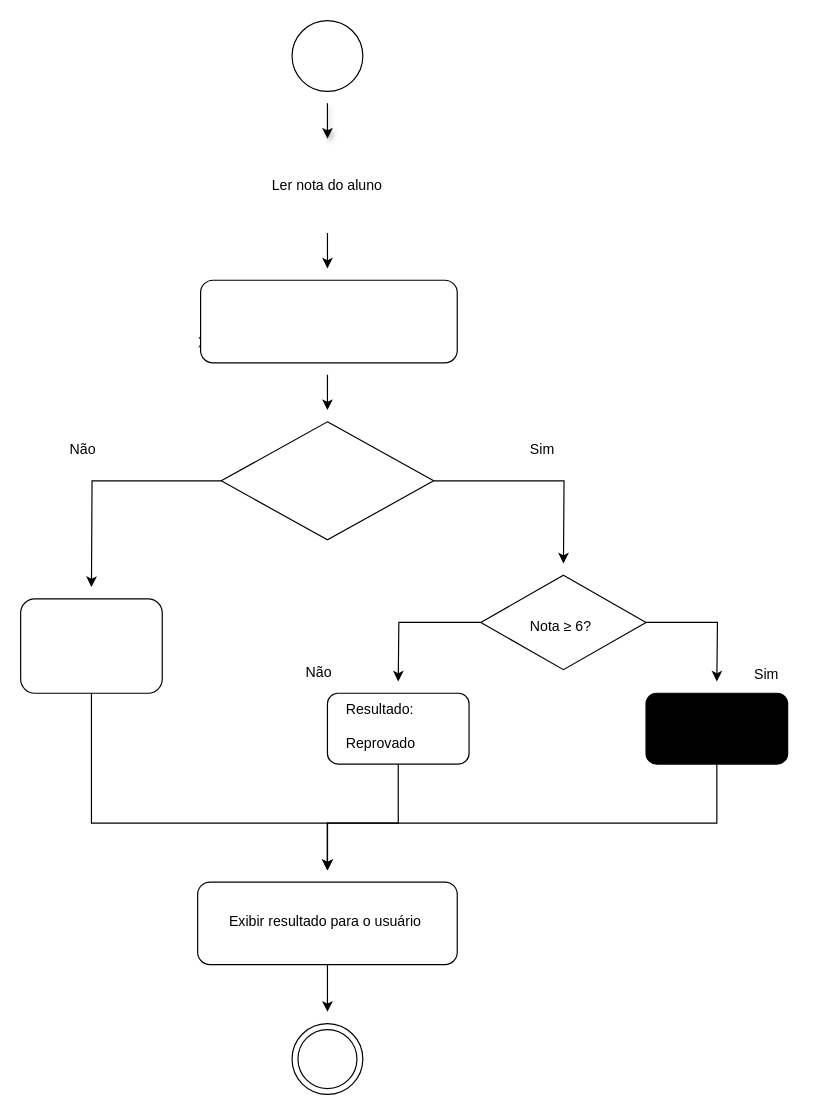
Some shapes in this 832 by 1115 pixel diagram are drawn without their labels. Here are the shapes that lost their labels. From the top down, the centre of each, then its label:
At pixel 328 321: "Verificar se a nota está entre 0 e 10".
At pixel 327 480: "Nota válida? (0 ≤ nota ≤ 10)".
At pixel 90 645: "Exibir erro: Nota fora do intervalo permitido!".
